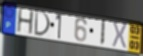1: (55, 13, 62, 40)
6: (74, 17, 88, 43)
D: (33, 9, 52, 38)
H: (16, 8, 35, 36)
I: (99, 19, 107, 47)
X: (112, 21, 129, 51)
